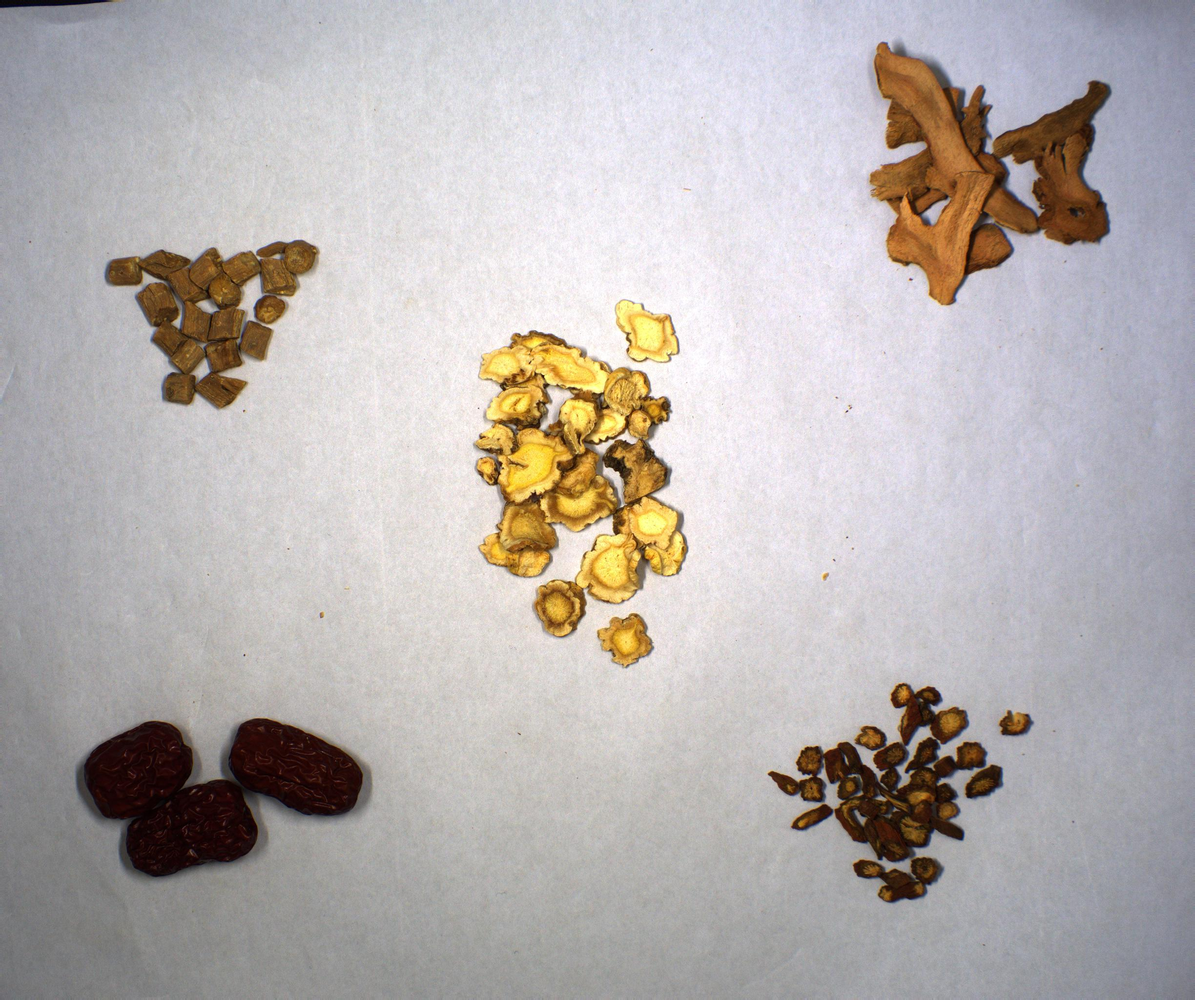danshen: (769, 683, 1040, 909)
dazao: (75, 722, 377, 882)
gaoliangjiang: (869, 39, 1116, 307)
jiegeng: (471, 297, 694, 670)
niuxi: (103, 239, 323, 414)
